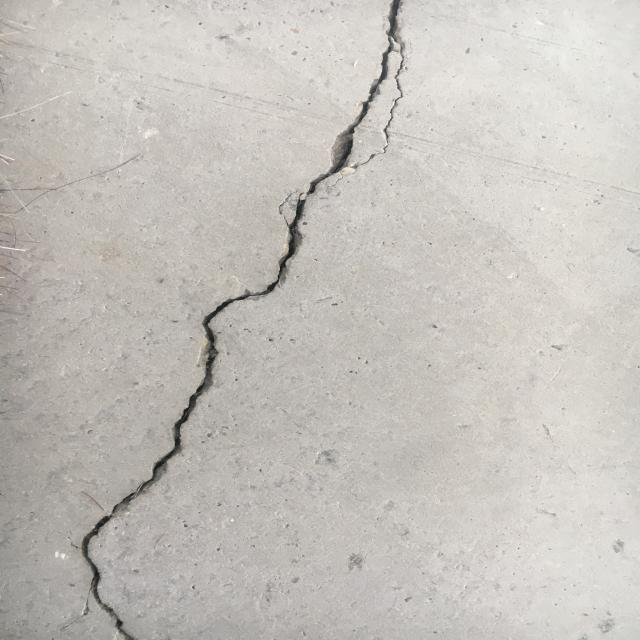Rachadura: (77, 0, 411, 640)
